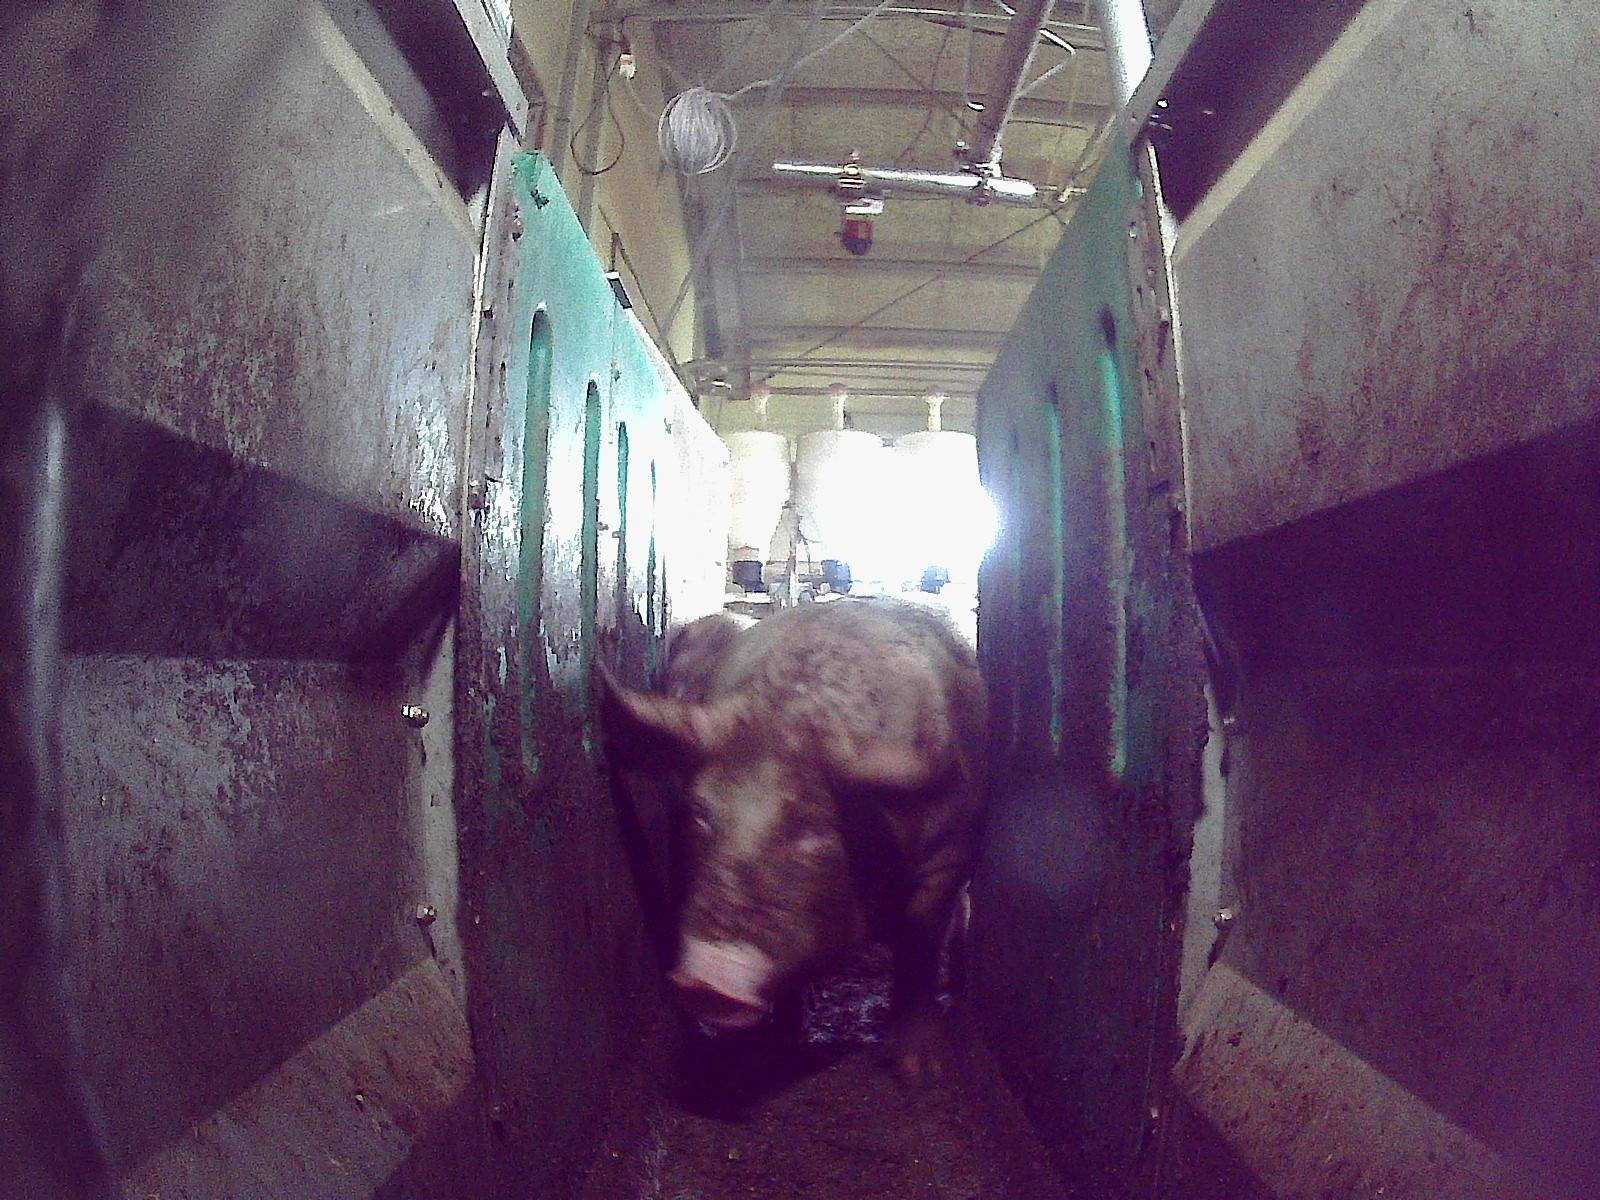Face: (664, 682, 909, 1038)
